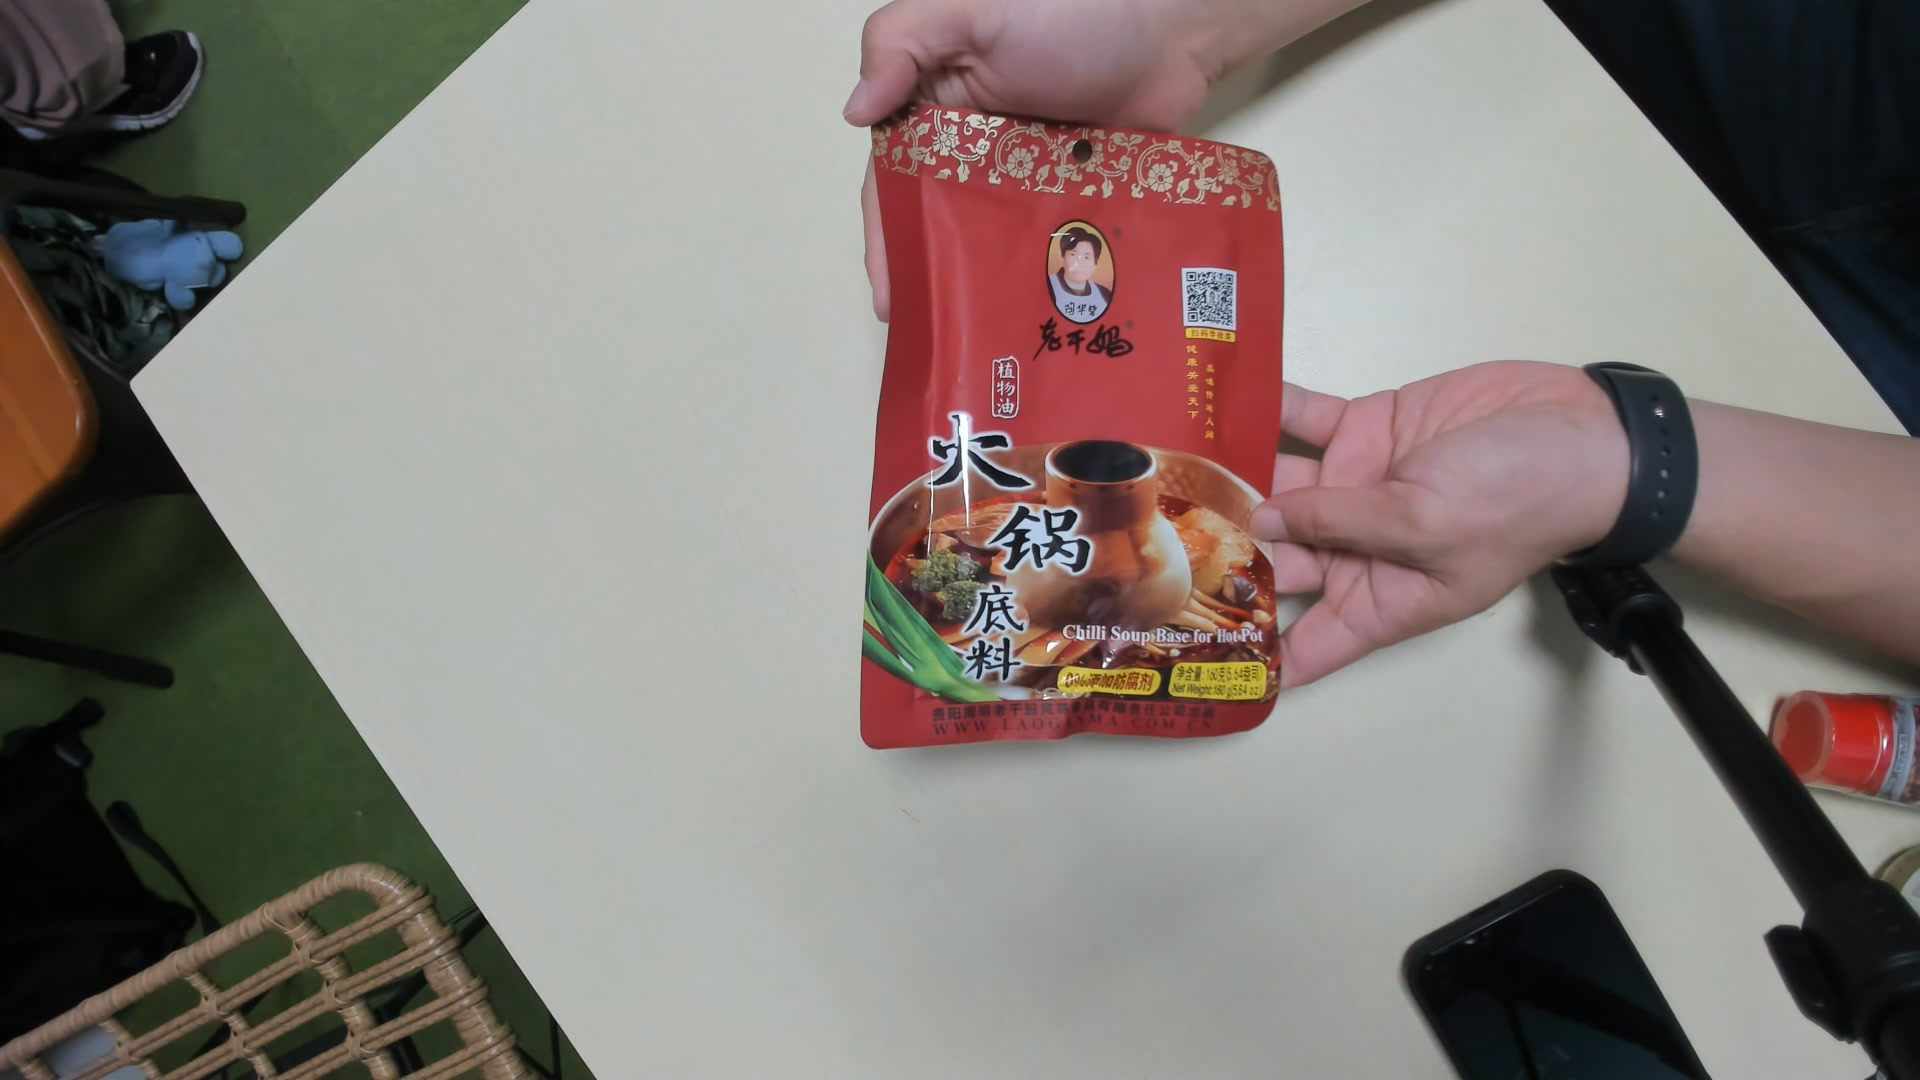OtherSauceDressing_100-199g_NonHalal_NonHealthy: (866, 102, 1279, 746)
